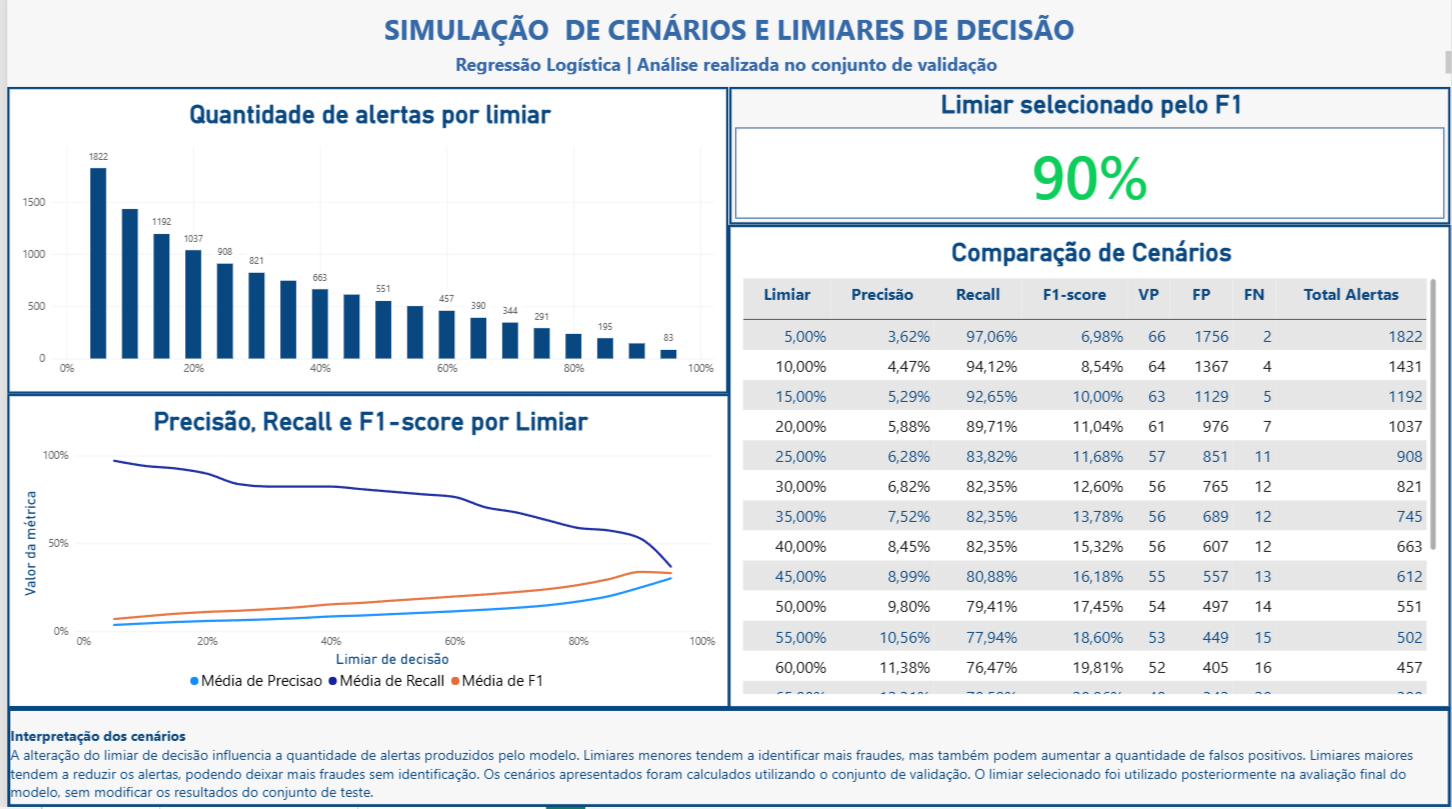

This screenshot's page, from the dashboard's own definition file:
{"tool":"powerbi","page":{"name":"03 - Simulação de Cenários","canvas":[1920,1080],"ordinal":2},"visuals":[{"type":"textbox","box":[0,0,1920.6,105],"z":0},{"type":"textbox","box":[0,74.5,1920.6,30.6],"z":1000},{"type":"lineChart","title":"Precisão, Recall e F1-score por Limiar","fields":{"Category":["Cenarios_Validacao.limiar"],"Y":["Avg(Cenarios_Validacao.precisao)","Avg(Cenarios_Validacao.recall)","Avg(Cenarios_Validacao.f1)"]},"box":[0,530.9,960.7,417.7],"z":2000},{"type":"lineClusteredColumnComboChart","title":"Quantidade de alertas por limiar","fields":{"Category":["Cenarios_Validacao.limiar"],"Y":["Sum(Cenarios_Validacao.Total Alertas)"]},"box":[0,122.6,959.3,408.3],"z":3000},{"type":"tableEx","title":"Comparação de Cenários","fields":{"Values":["Cenarios_Validacao.limiar","Cenarios_Validacao.precisao","Cenarios_Validacao.recall","Cenarios_Validacao.f1","Cenarios_Validacao.VP","Cenarios_Validacao.FP","Cenarios_Validacao.FN","Cenarios_Validacao.Total Alertas"]},"box":[959.3,305.9,960.7,642.7],"z":4000},{"type":"cardVisual","title":"Limiar selecionado pelo F1","fields":{"Data":["Cenarios_Validacao.Melhor Limiar F1"]},"box":[960.7,122.6,959.3,183.2],"z":5000},{"type":"textbox","box":[0,948.5,1920,132],"z":6000}]}

Visuals, with their boxes in screenshot pixels (x1, y1, x2, y2), scaled from the page's 1920x1080 canvas onto the 1452x809 screenshot:
textbox: [x1=0, y1=0, x2=1451, y2=79]
textbox: [x1=0, y1=56, x2=1451, y2=79]
"Precisão, Recall e F1-score por Limiar" lineChart: [x1=0, y1=398, x2=727, y2=711]
"Quantidade de alertas por limiar" lineClusteredColumnComboChart: [x1=0, y1=92, x2=725, y2=398]
"Comparação de Cenários" tableEx: [x1=725, y1=229, x2=1451, y2=711]
"Limiar selecionado pelo F1" cardVisual: [x1=727, y1=92, x2=1451, y2=229]
textbox: [x1=0, y1=710, x2=1451, y2=808]
